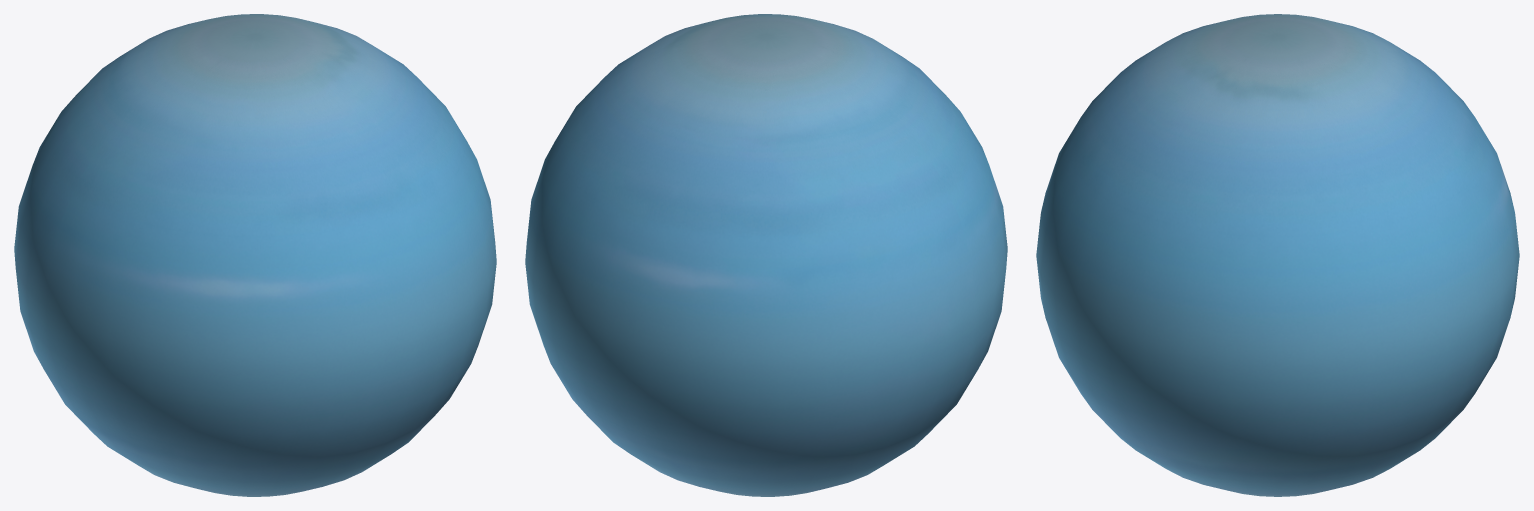
File: urano.glb
3 views of the same model, side by side, from view 1: azimuth 30°, elevation 25°; view 2: azimuth 150°, elevation 25°; view 3: azimuth 270°, elevation 25° (orthographic).
Parts seen in each view (by area): view 1: Material_001-material; view 2: Material_001-material; view 3: Material_001-material.
Boxes of the visible parts, bbox=[...] form: Material_001-material: bbox=[14, 14, 496, 496]; Material_001-material: bbox=[525, 14, 1007, 496]; Material_001-material: bbox=[1036, 14, 1519, 496].
Size of the model in its own units: 7.09 by 7.09 by 7.09.
1 material, 1 textured.
